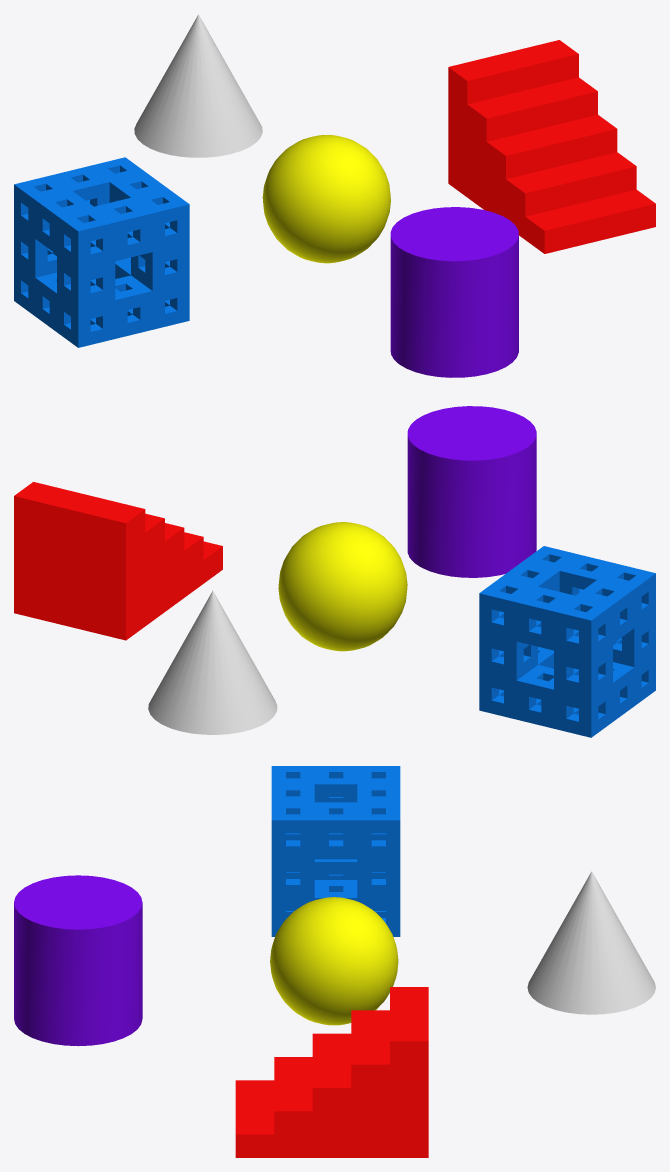
Rendered from materialTest.dae.
3 renders of one model, top to bottom at view 1: azimuth 30°, elevation 25°; view 2: azimuth 150°, elevation 25°; view 3: azimuth 270°, elevation 25°, orthographic.
Parts seen in each view (by area): view 1: Stair, Fractal, Cylinder, Ball, Cone; view 2: Fractal, Stair, Cylinder, Ball, Cone; view 3: Stair, Cylinder, Fractal, Ball, Cone.
Boxes of the visible parts, x1,y1,x2,y2 form: Stair: (448, 40, 655, 253); Fractal: (14, 157, 189, 347); Cylinder: (390, 207, 518, 377); Ball: (262, 135, 390, 263); Cone: (134, 14, 262, 157); Fractal: (479, 546, 655, 737); Stair: (14, 482, 222, 640); Cylinder: (407, 406, 536, 577); Ball: (278, 522, 407, 651); Cone: (148, 590, 277, 734); Stair: (235, 987, 428, 1157); Cylinder: (14, 875, 142, 1046); Fractal: (271, 766, 400, 936); Ball: (270, 897, 398, 1025); Cone: (527, 871, 655, 1014).
Bounding box in the file's own units: 5.03 × 1.29 × 5.
